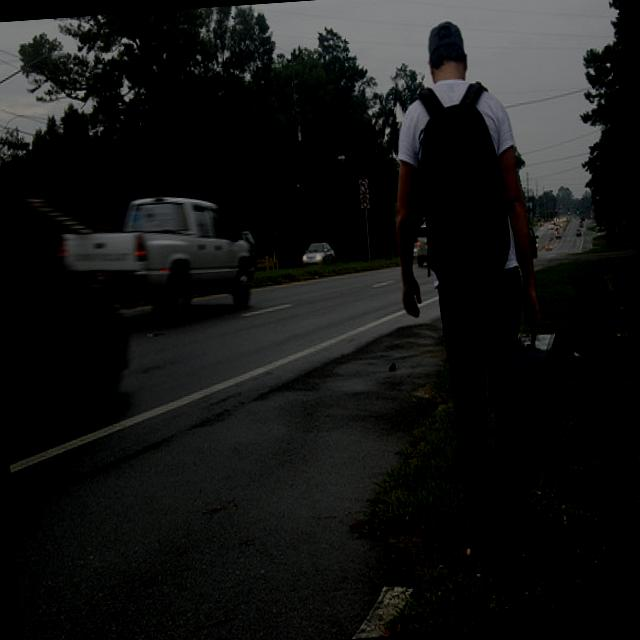Vehicle: (55, 189, 264, 331), (0, 198, 137, 405), (408, 213, 570, 269), (301, 242, 338, 268), (414, 225, 428, 268), (528, 226, 540, 260), (544, 240, 553, 252), (554, 228, 564, 236), (548, 220, 556, 229), (575, 228, 582, 235), (538, 220, 544, 227), (578, 220, 584, 227), (554, 224, 559, 230), (564, 216, 568, 222)
